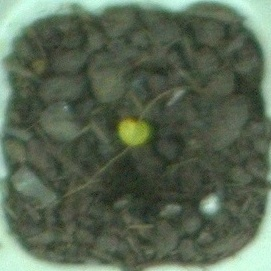pepper seed: (35, 43, 194, 191)
